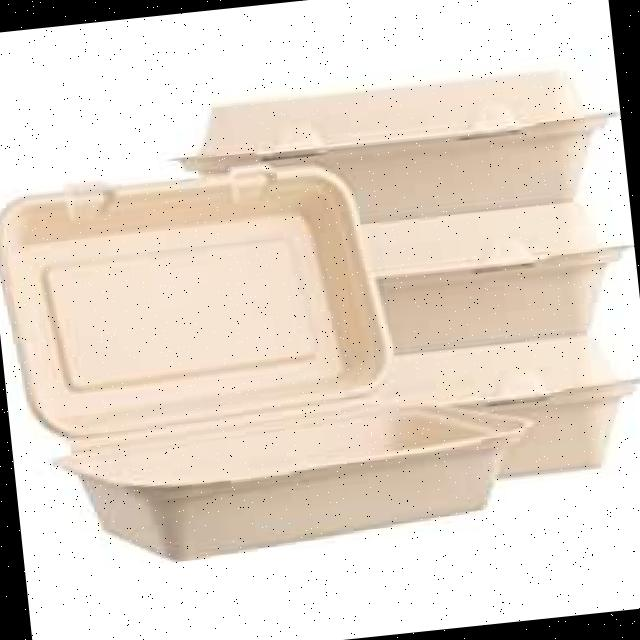styrofoam: (0, 58, 640, 577)
